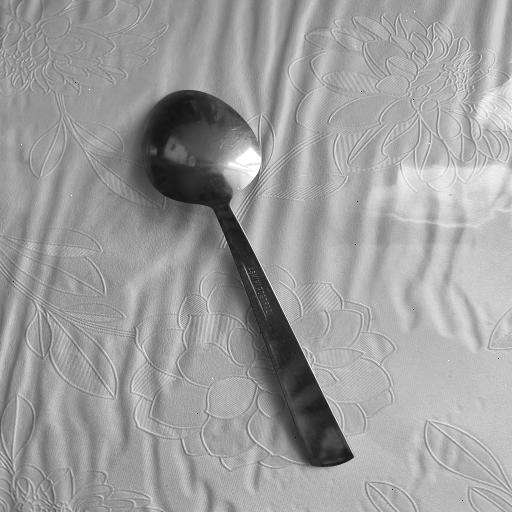spoon: (141, 83, 357, 468)
